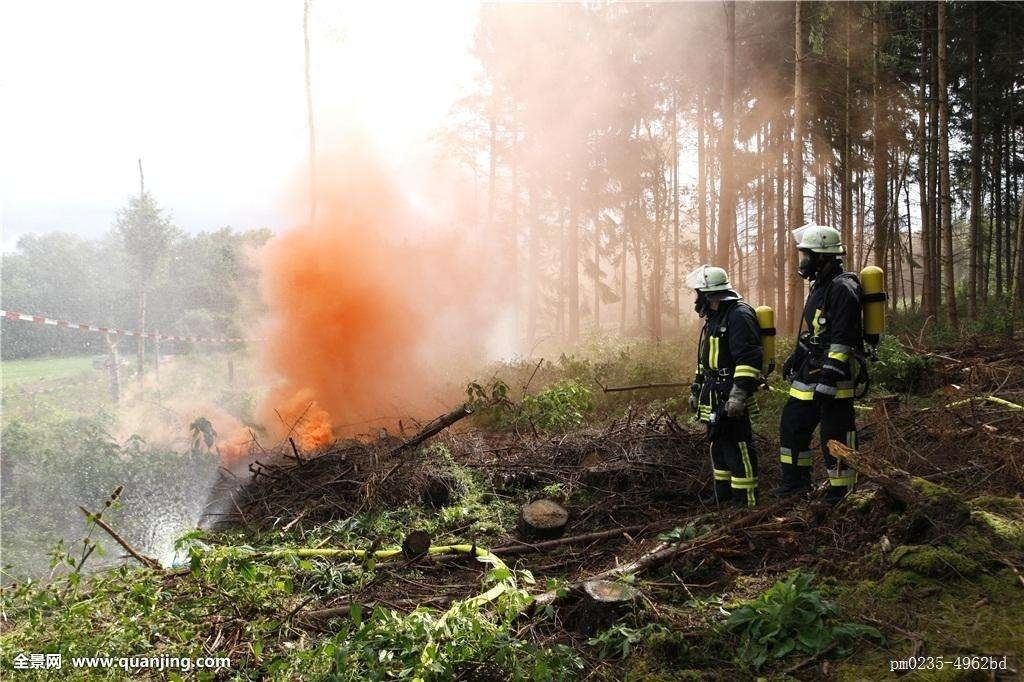fire: (225, 171, 463, 461)
